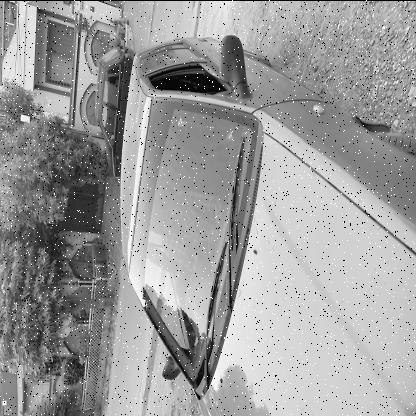no_seatbelt: (150, 205, 202, 249)
